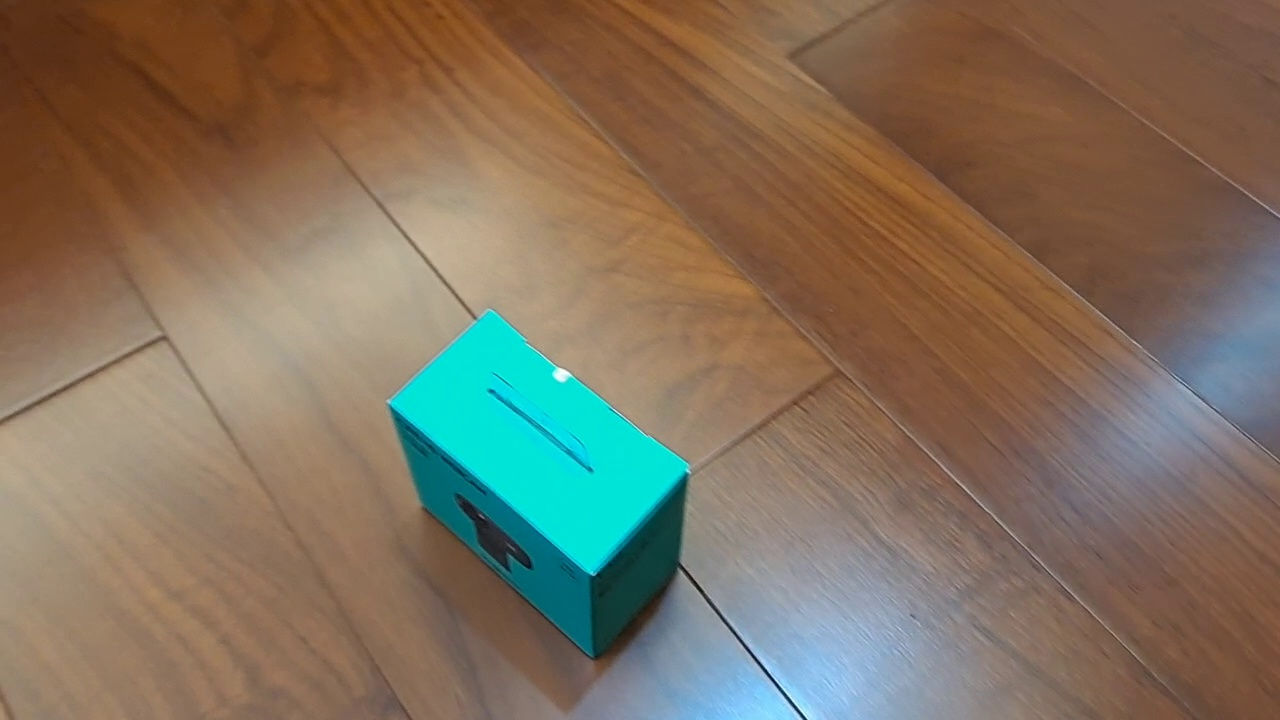webcam: (385, 307, 693, 661)
